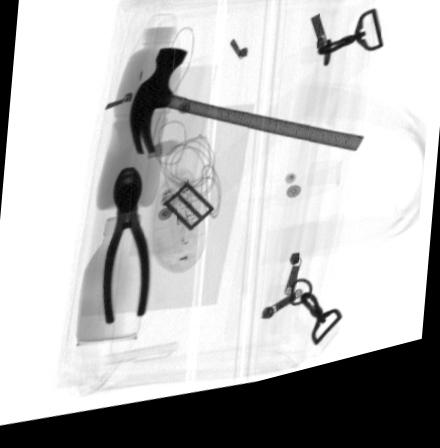Hammer: (129, 57, 363, 169)
Pliers: (99, 174, 150, 330)
